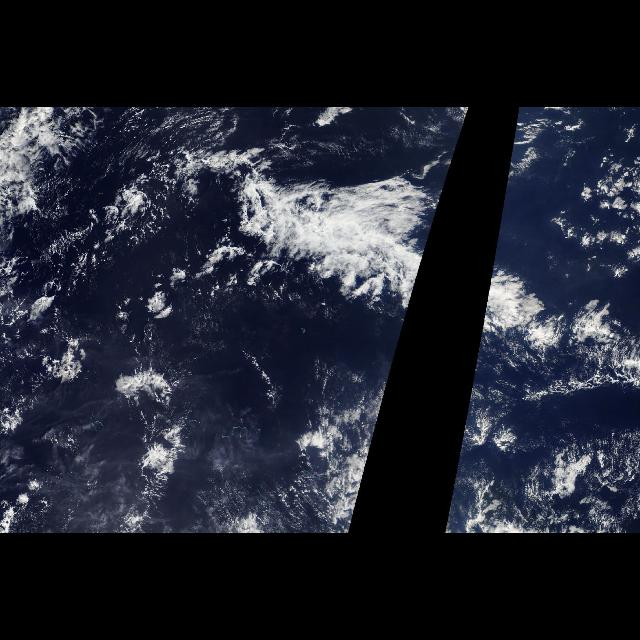Fish: (199, 125, 465, 398), (468, 125, 634, 398)
Flower: (9, 138, 288, 532)
Sugar: (198, 465, 318, 533), (580, 422, 636, 534)
